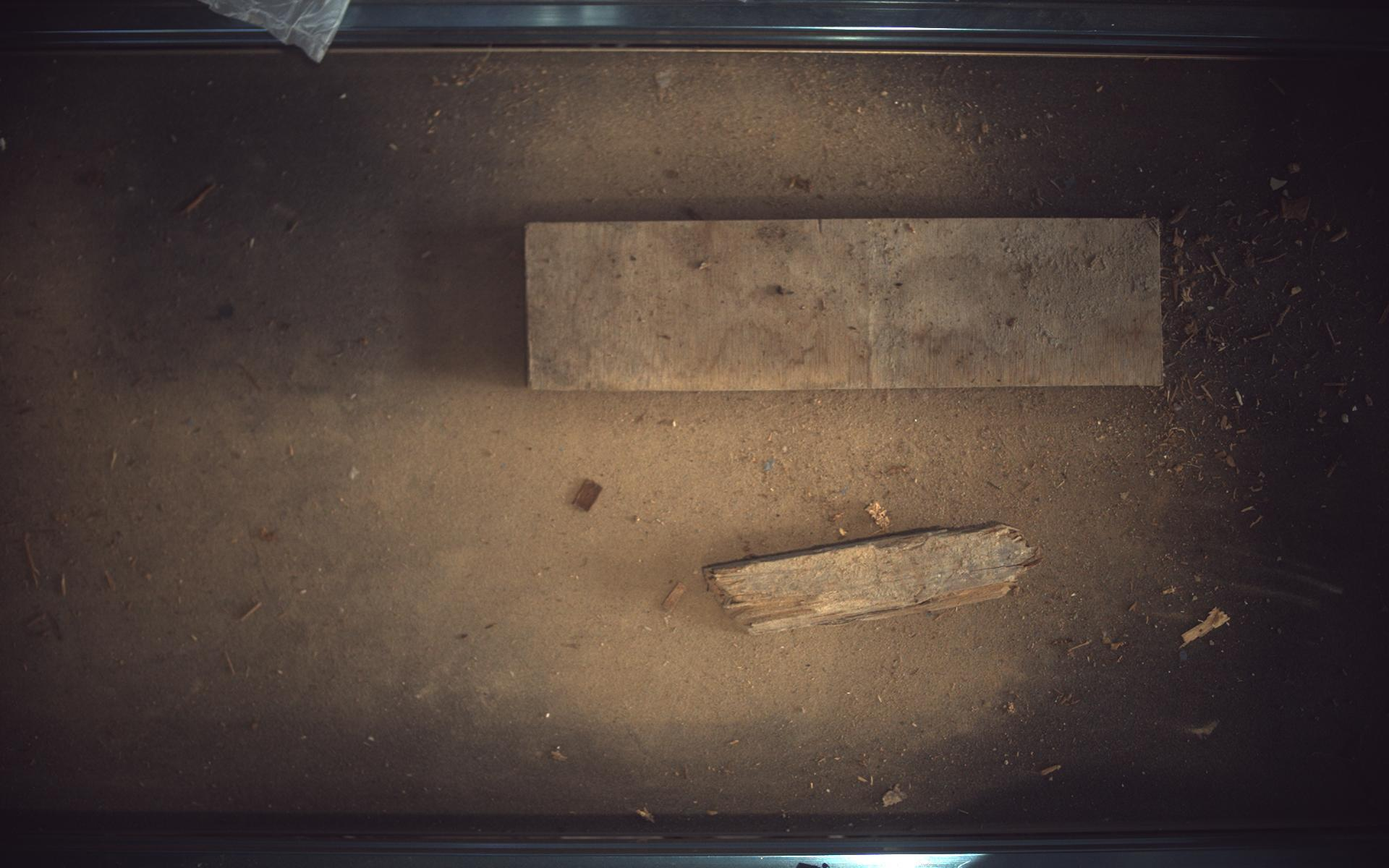wood: (526, 218, 1165, 391), (705, 524, 1042, 634)
